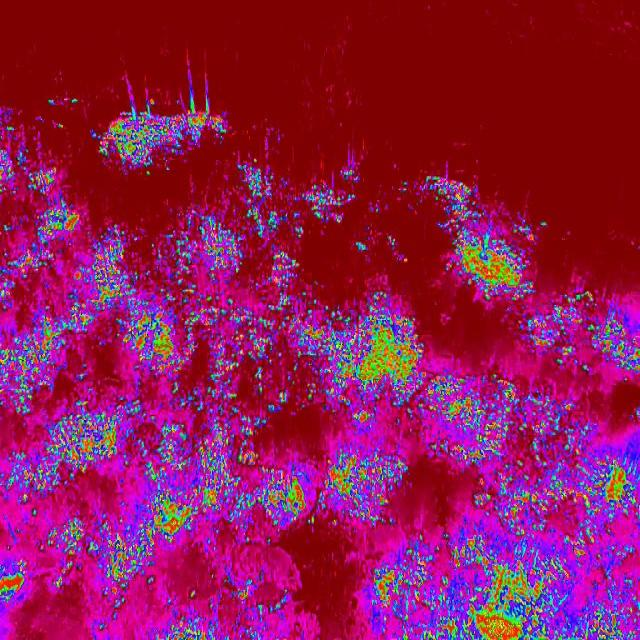fire: (76, 207, 240, 640), (0, 109, 76, 640), (366, 526, 640, 640), (240, 239, 306, 640), (306, 296, 426, 428), (428, 374, 594, 458), (433, 181, 545, 301), (470, 459, 640, 526), (238, 148, 360, 241), (520, 286, 640, 380), (95, 105, 238, 180), (307, 444, 409, 535)
